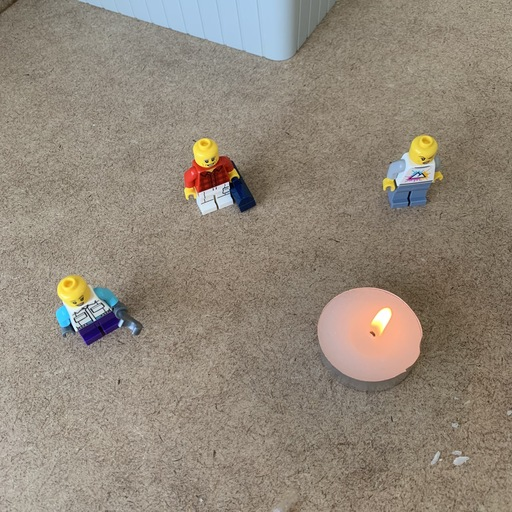fire: (362, 306, 393, 342)
human: (377, 130, 447, 212), (178, 134, 245, 217), (57, 274, 131, 346)
